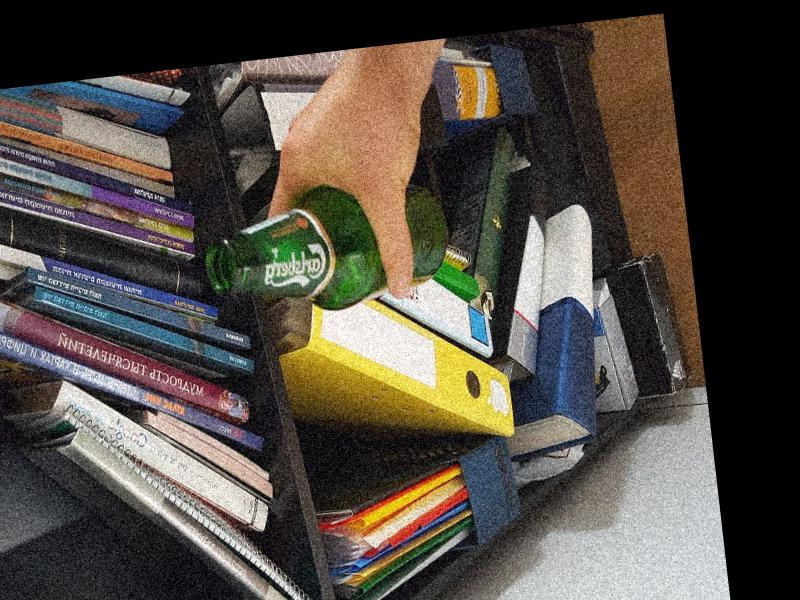Beer: (199, 176, 457, 322)
